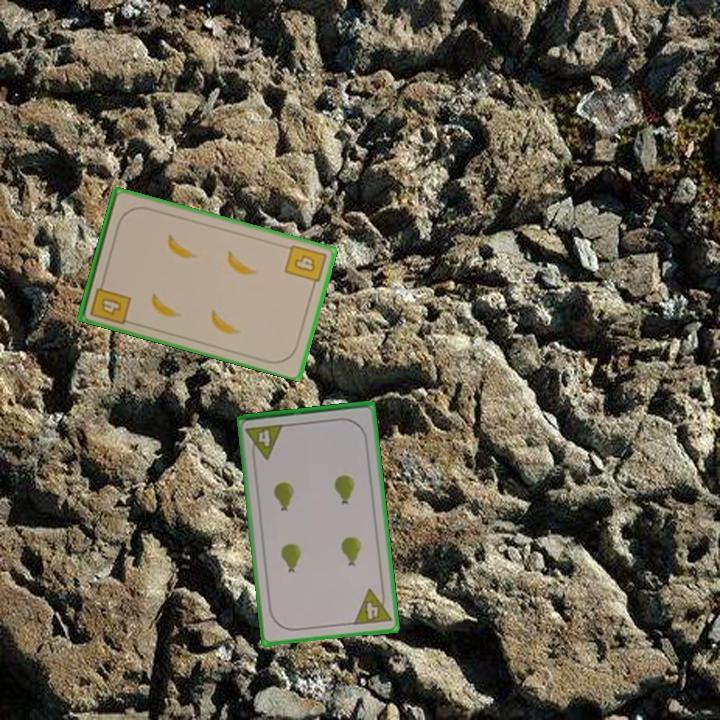4b: (281, 241, 329, 291), (87, 276, 134, 327)
4p: (350, 584, 394, 628), (242, 421, 287, 463)
